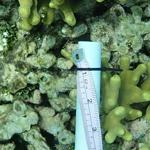dead: (3, 4, 72, 141)
